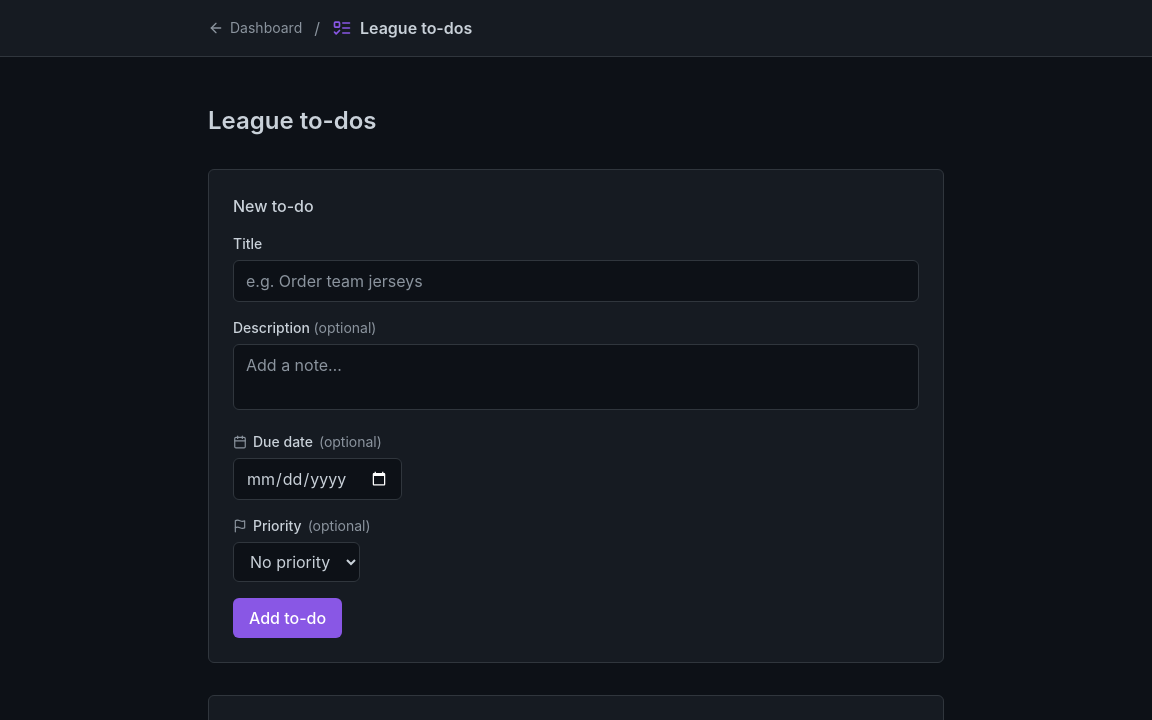
Test: ListDetailView › creates an item with the selected priority
Type "Urgent to-do" into the field with id "item-title-new" at point(576, 281), box [233,260,919,302]
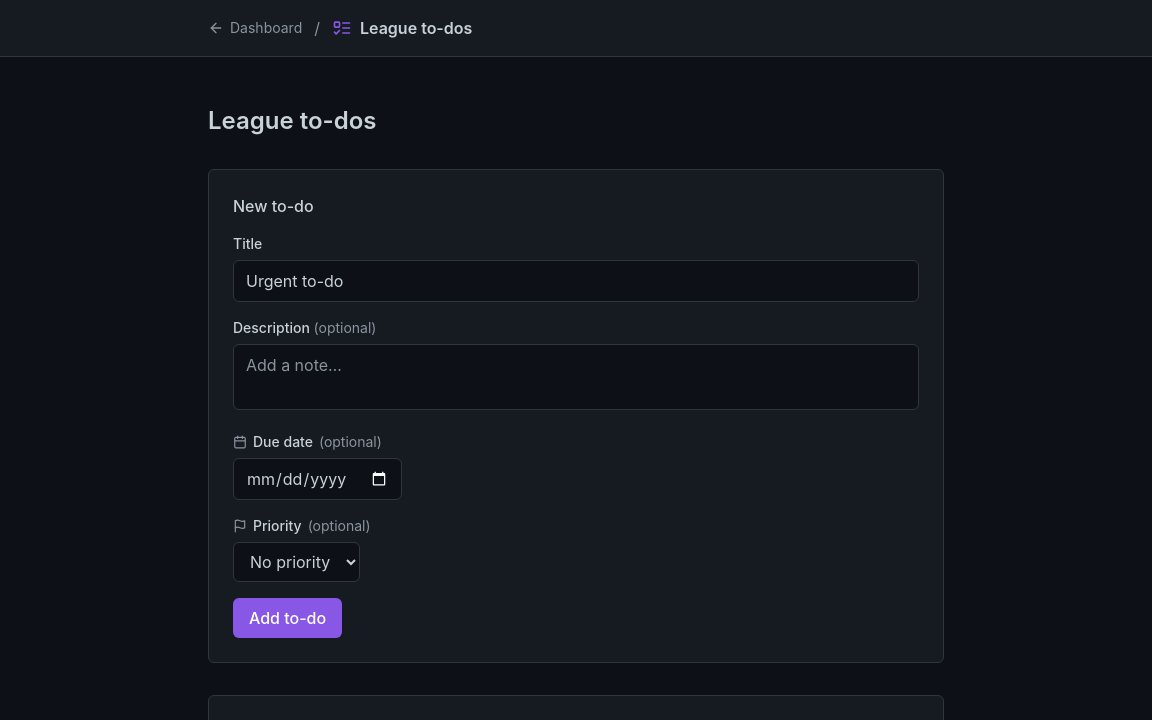
Select "High" in the dropdown with id "item-priority-new" at point(296, 562), box [233,542,360,582]
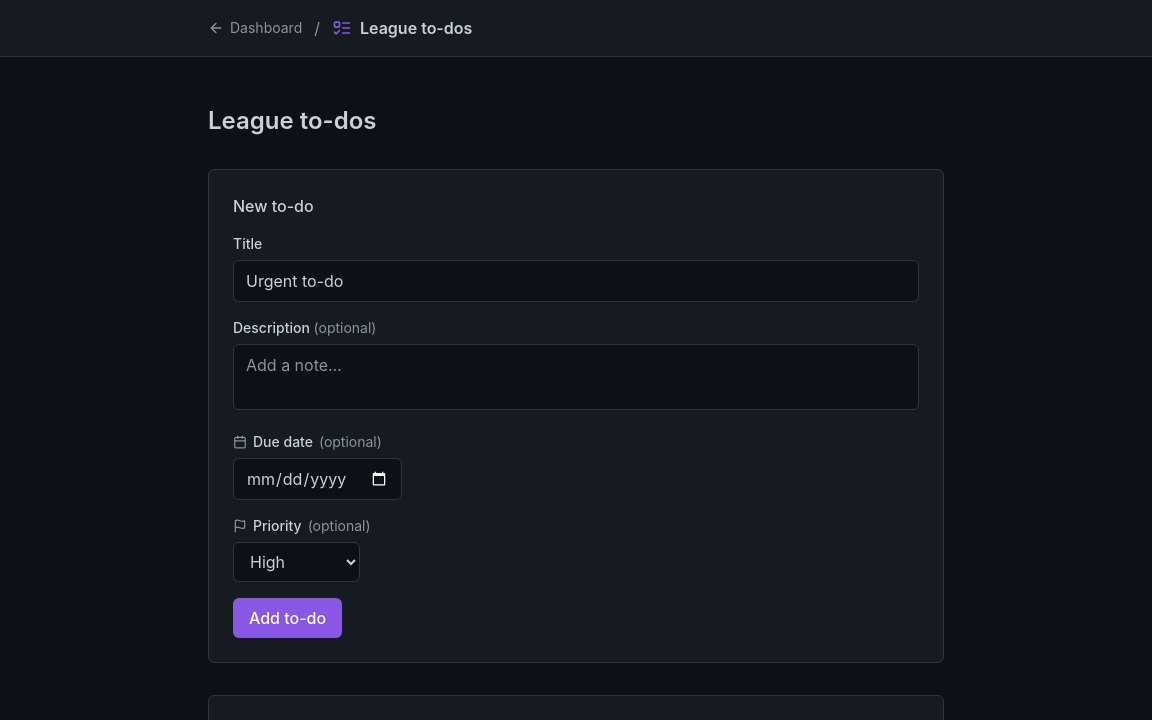
Submit the form, box [233,234,919,638]
(page scrolled)
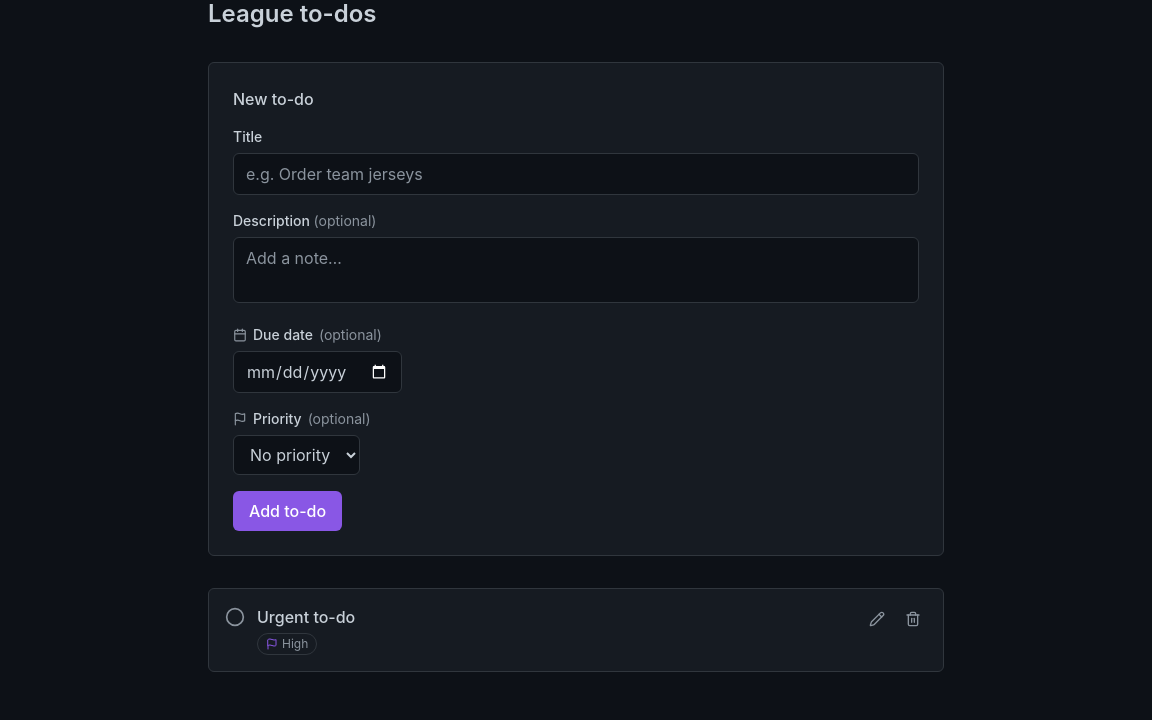
Result: the element with test id "priority-badge" reads "High" at [282,636,308,651]
